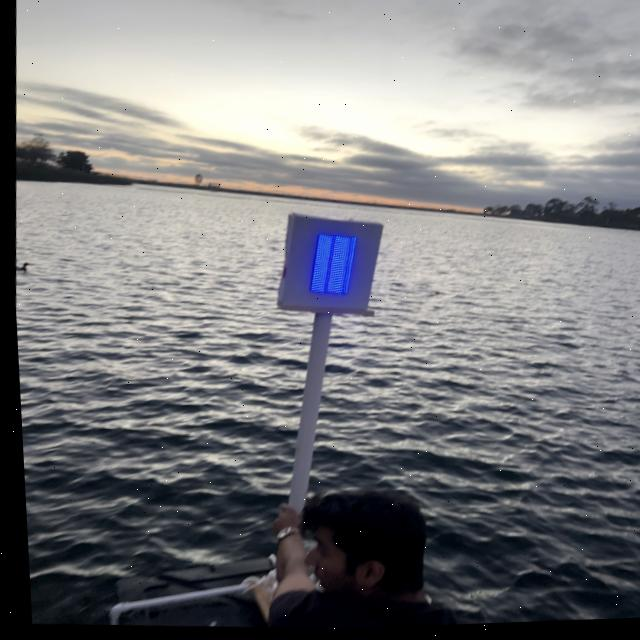led: (287, 216, 366, 316)
